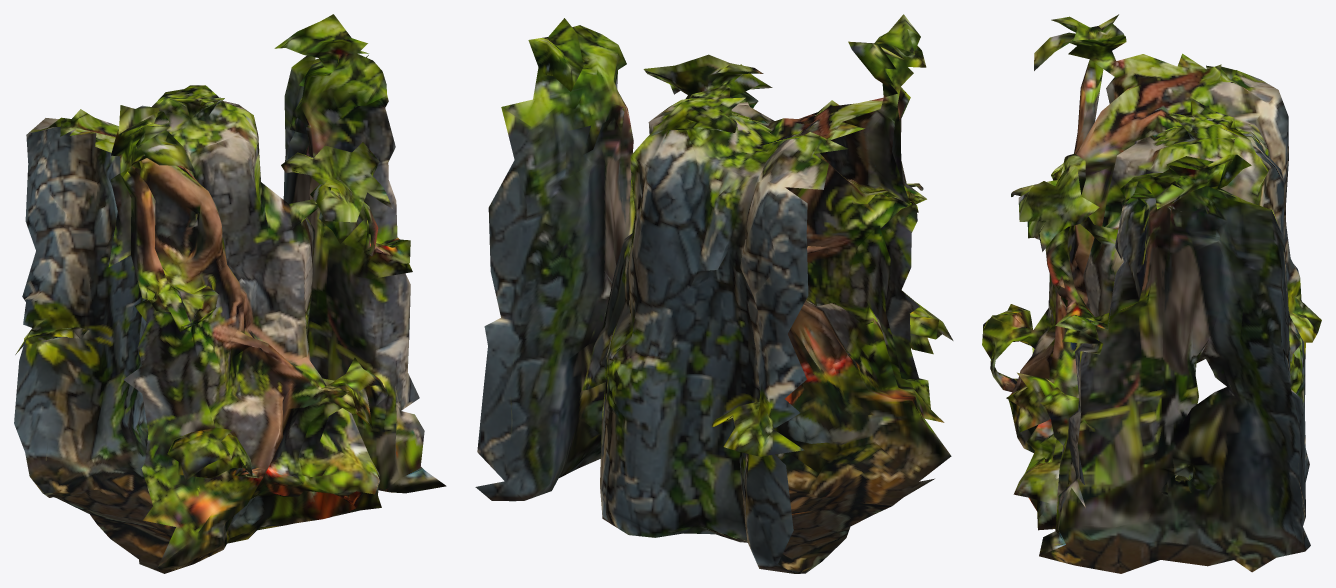
The model's file is TropicalForest_Wall.fbx.
3 views of the same model, side by side, from view 1: azimuth 30°, elevation 25°; view 2: azimuth 150°, elevation 25°; view 3: azimuth 270°, elevation 25° (orthographic). The views are drawn at different scales.
Visible parts, largest first — view 1: TropicalForest_Wall_Mesh; view 2: TropicalForest_Wall_Mesh; view 3: TropicalForest_Wall_Mesh.
Boxes of the visible parts, x1,y1,x2,y2 form: TropicalForest_Wall_Mesh: [14, 14, 446, 573]; TropicalForest_Wall_Mesh: [475, 14, 953, 573]; TropicalForest_Wall_Mesh: [982, 14, 1321, 573].
Bounding box in the file's own units: 6 × 8.49 × 5.97.
Materials: 1 (1 with a texture image).
